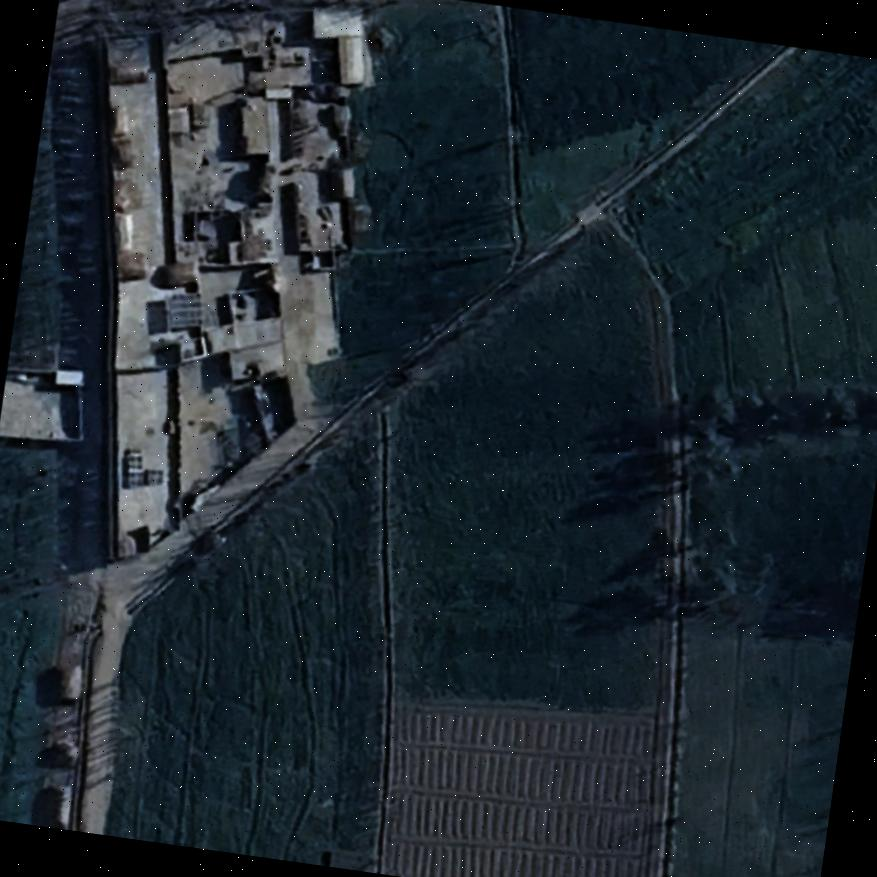Solarpanel: (159, 286, 206, 334), (114, 446, 148, 491), (139, 466, 165, 489)
